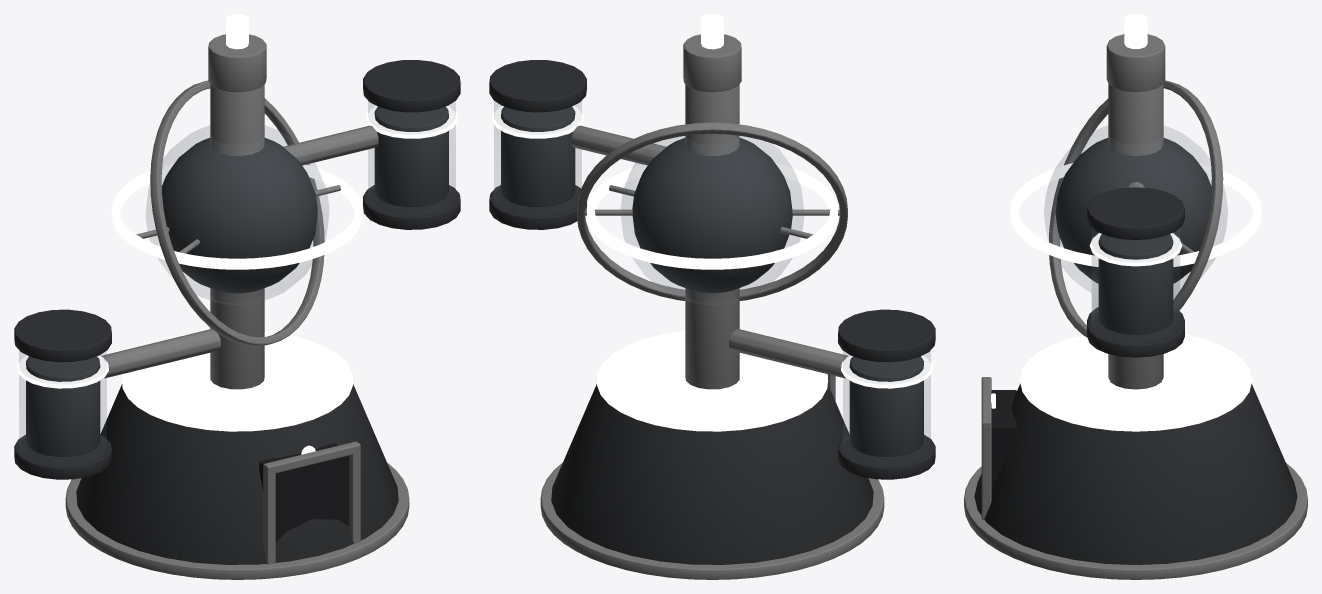
The model's file is Skin_Reactor_T2.glb.
3 renders of one model, left to right at view 1: azimuth 30°, elevation 25°; view 2: azimuth 150°, elevation 25°; view 3: azimuth 270°, elevation 25°, orthographic.
Visible parts, largest first — view 1: Skin_Reactor_T2; view 2: Skin_Reactor_T2; view 3: Skin_Reactor_T2.
Part boxes in pixels (left/top/right/bottom): Skin_Reactor_T2: left=14, top=14, right=460, bottom=579; Skin_Reactor_T2: left=489, top=14, right=935, bottom=579; Skin_Reactor_T2: left=964, top=14, right=1307, bottom=579.
Bounding box in the file's own units: 5.1 × 5.5 × 3.5.
